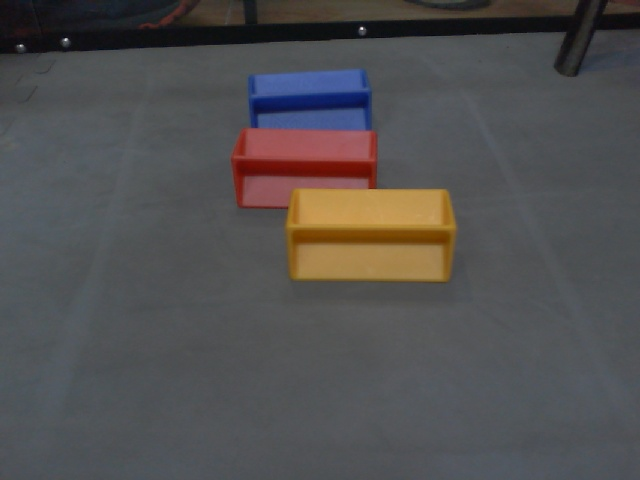BlueSample: (243, 67, 374, 143)
RedSample: (232, 127, 380, 209)
YellowSample: (284, 186, 456, 286)
